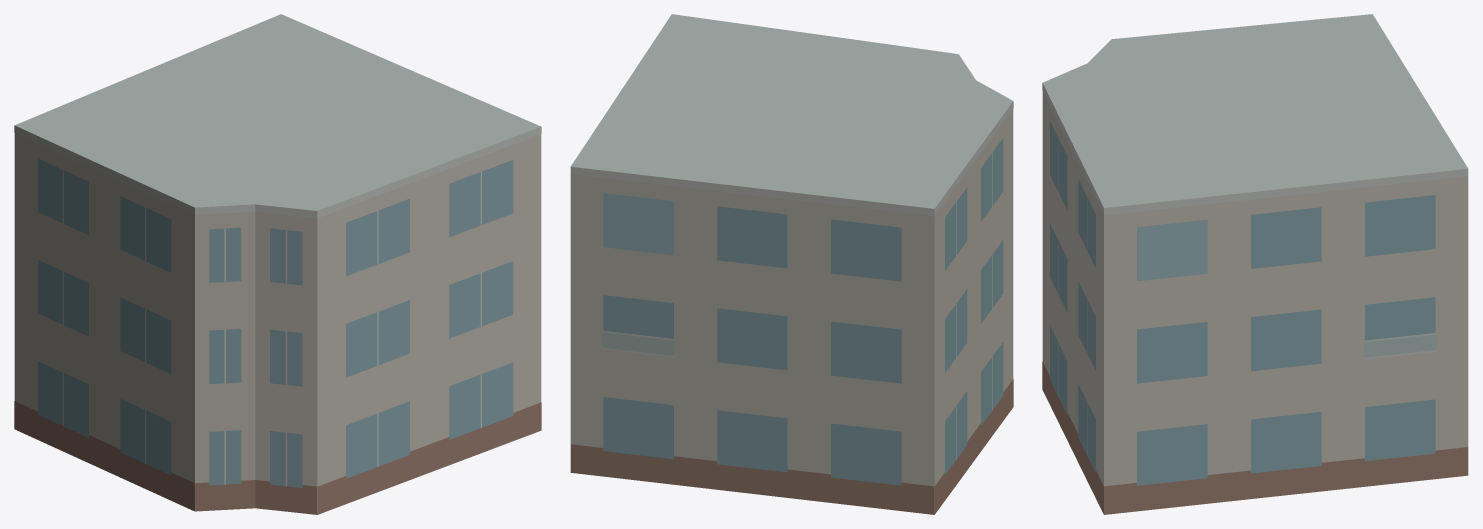
File: survey-upis-32839497.glb
The picture shows the model from 3 angles, left to right: view 1: azimuth 30°, elevation 25°; view 2: azimuth 150°, elevation 25°; view 3: azimuth 270°, elevation 25°; orthographic projection.
Visible parts, largest first — view 1: survey-upis-32839497.tmp; view 2: survey-upis-32839497.tmp; view 3: survey-upis-32839497.tmp.
Boxes of the visible parts, x1=… form: survey-upis-32839497.tmp: x1=14, y1=14, x2=541, y2=514; survey-upis-32839497.tmp: x1=570, y1=14, x2=1013, y2=514; survey-upis-32839497.tmp: x1=1042, y1=14, x2=1468, y2=514.
Bounding box in the file's own units: 13.71 × 10.1 × 12.72.
